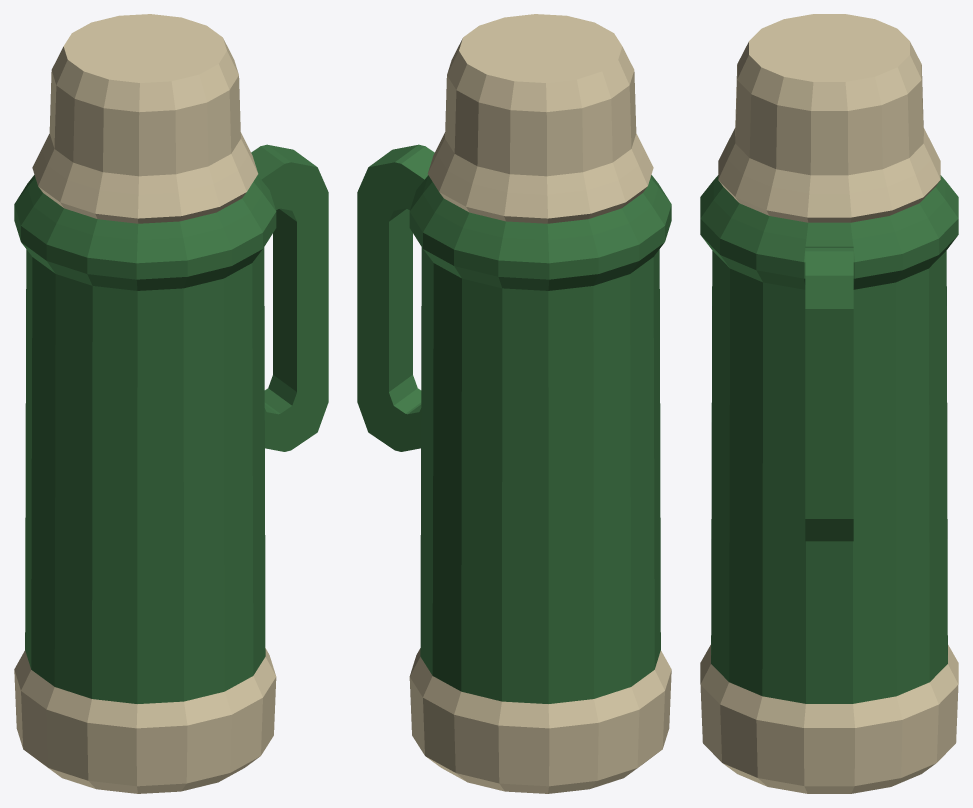
Rendered from SM_Cook_Thermos_01.fbx.
3 views of the same model, side by side, from view 1: azimuth 30°, elevation 25°; view 2: azimuth 150°, elevation 25°; view 3: azimuth 270°, elevation 25° (orthographic).
Parts seen in each view (by area): view 1: SM_Cook_Thermos_01; view 2: SM_Cook_Thermos_01; view 3: SM_Cook_Thermos_01.
Boxes of the visible parts, box(x1,y1,x2,y2) form: SM_Cook_Thermos_01: box(14, 14, 328, 793); SM_Cook_Thermos_01: box(357, 14, 671, 793); SM_Cook_Thermos_01: box(700, 14, 958, 793).
Bounding box in the file's own units: 0.1356 × 0.32 × 0.1069.
Materials: 1 (1 with a texture image).
